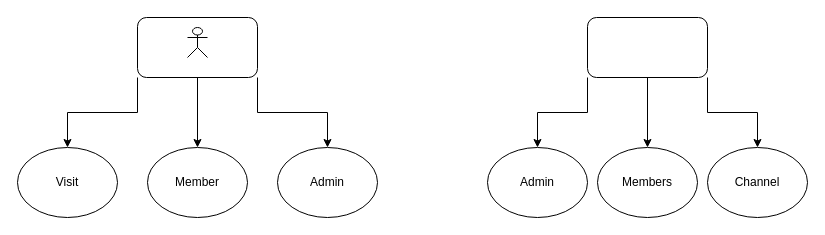
Some shapes in this 825 by 235 pixel diagram are drawn without their labels. Each missing label, with the centre of its shape:
Server: pixel 647 47
User: pixel 197 42
